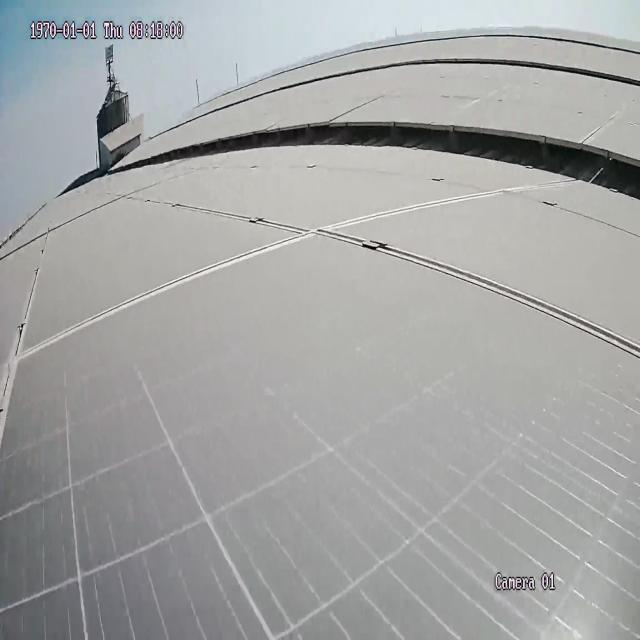interior panel: (23, 176, 638, 364), (2, 234, 54, 418), (181, 203, 307, 230)
outher panel: (129, 121, 638, 203)
